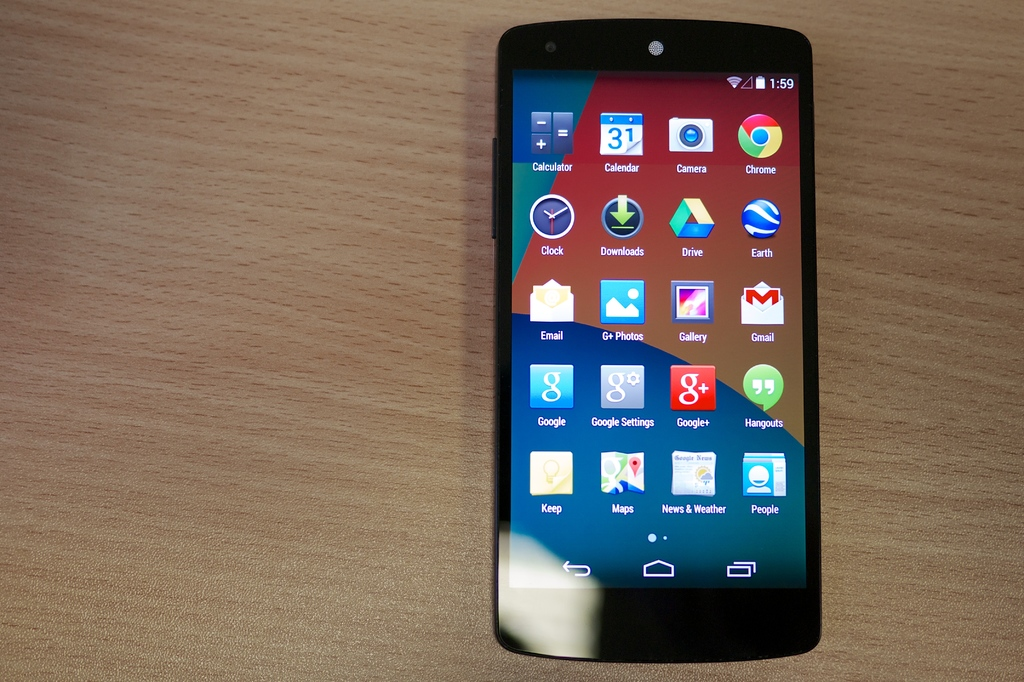Mobile-phone: (489, 19, 825, 661)
